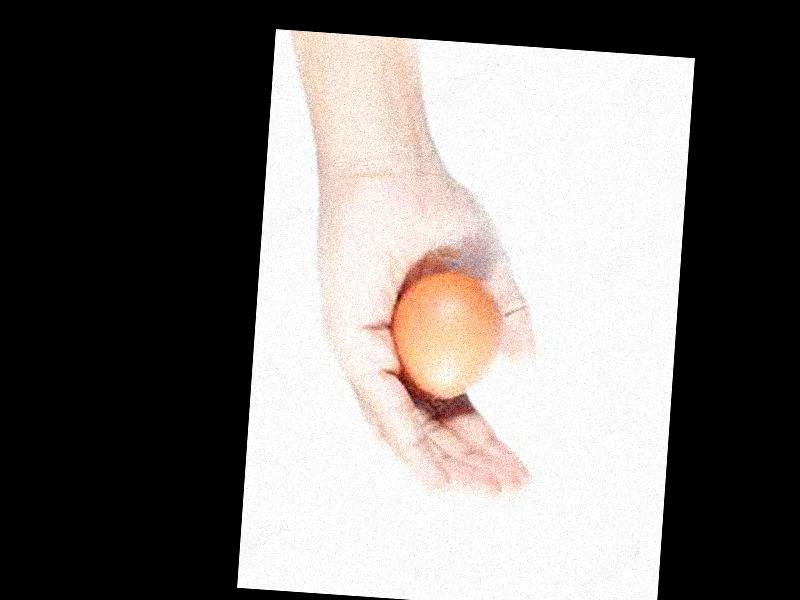Eggs: (390, 270, 504, 401)
